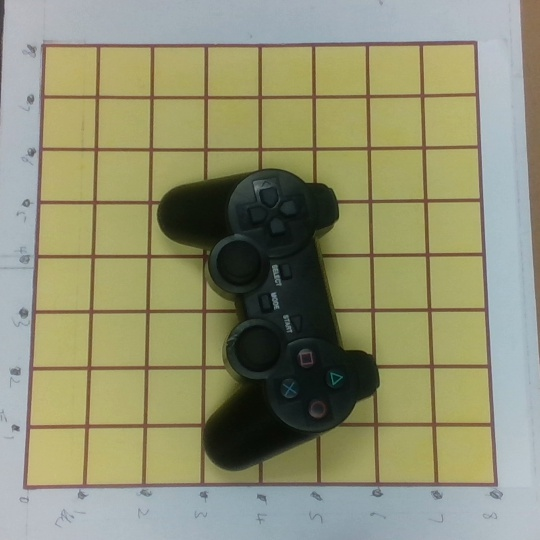remote: (155, 168, 385, 473)
